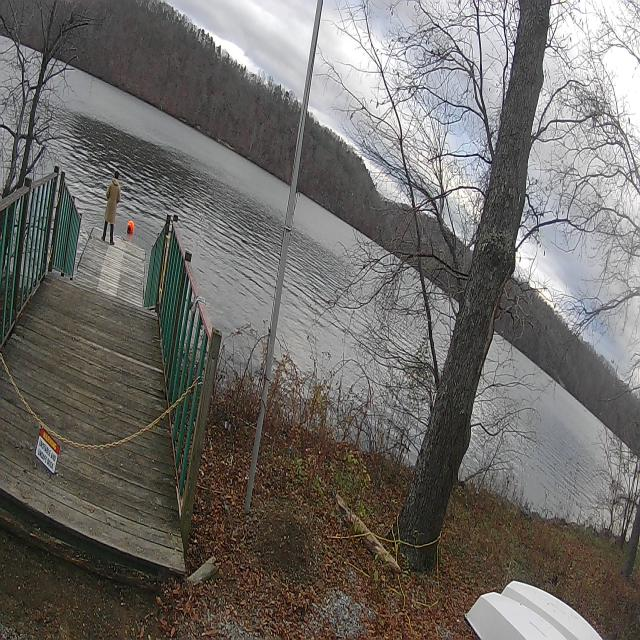Buoy: (127, 219, 135, 236)
